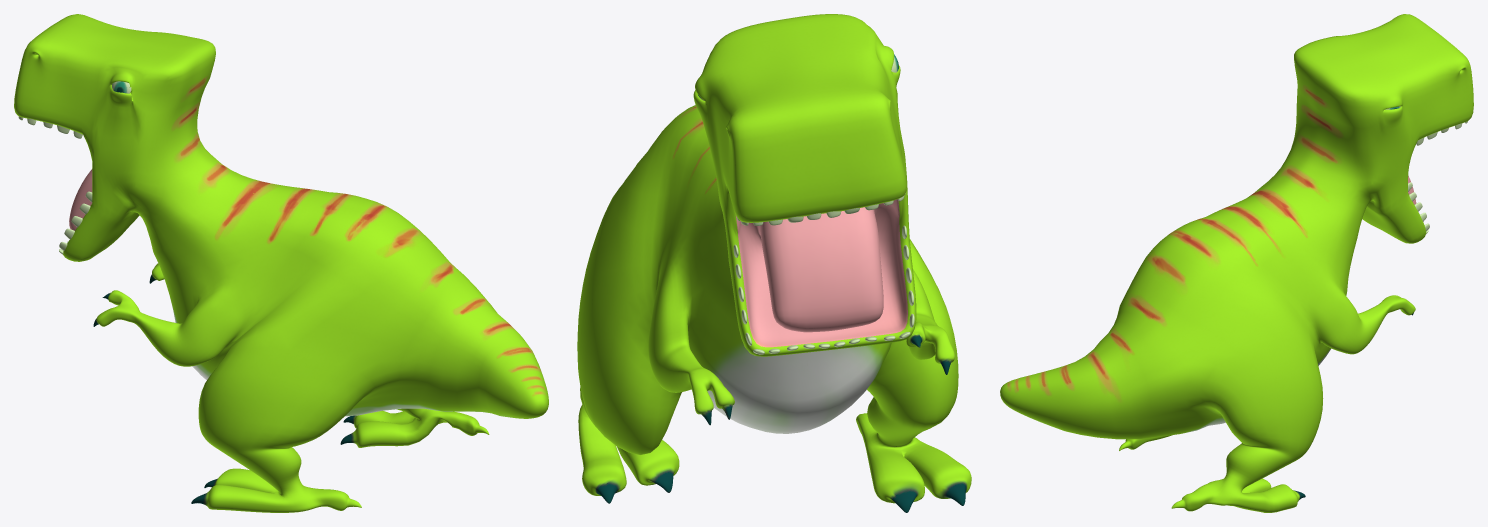
3 views of the same model, side by side, from view 1: azimuth 30°, elevation 25°; view 2: azimuth 150°, elevation 25°; view 3: azimuth 270°, elevation 25° (orthographic). The views are drawn at different scales.
Parts seen in each view (by area): view 1: Body; view 2: Body; view 3: Body.
Part boxes in pixels (bbox=[...]): Body: bbox=[14, 14, 548, 512]; Body: bbox=[577, 14, 971, 512]; Body: bbox=[1000, 14, 1473, 512].
Size of the model in its own units: 10.13 by 11.36 by 13.06.
Materials: 1 (1 with a texture image).
